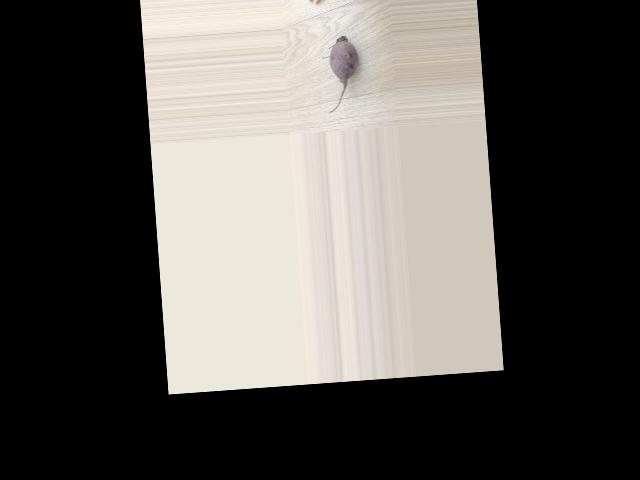beet: (320, 35, 361, 113)
